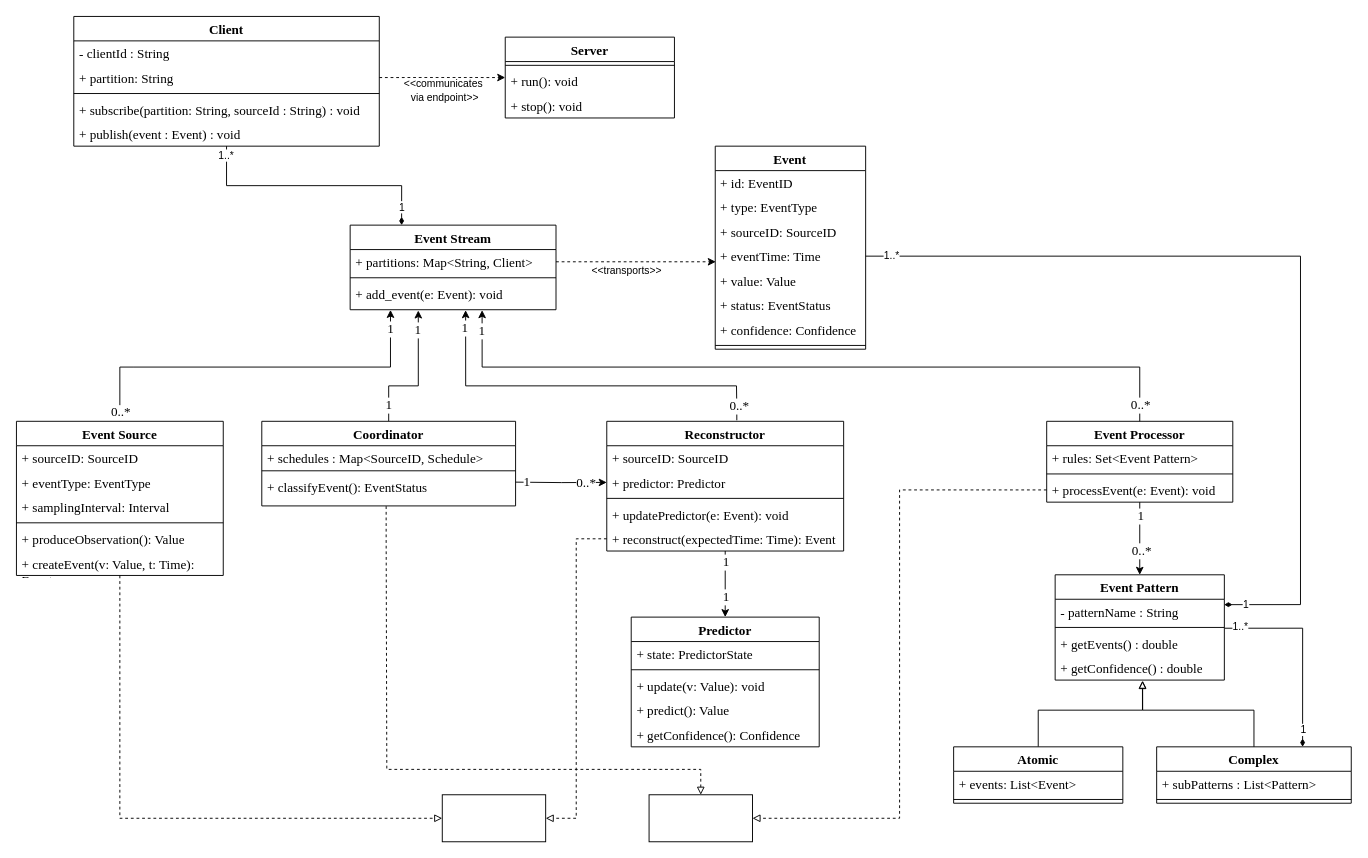
Some shapes in this 1368 by 858 pixel diagram are drawn without their labels. Each missing label, with the centre of its shape:
"«interface» Event Consumer" belongs at [700,818].
"«interface» Event Generator" belongs at [493,818].
